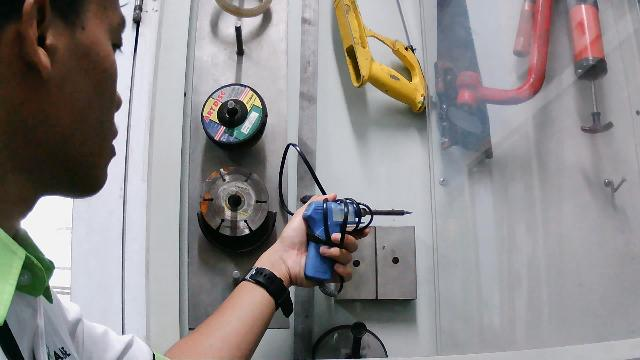solder_electrical: (269, 136, 414, 299)
